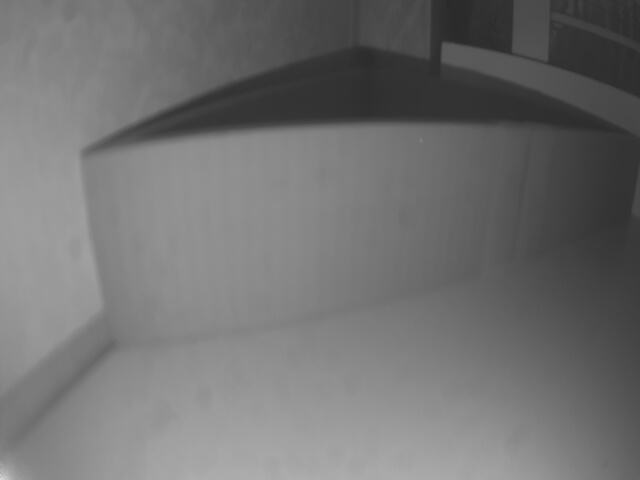Point: (111, 128, 640, 342)
